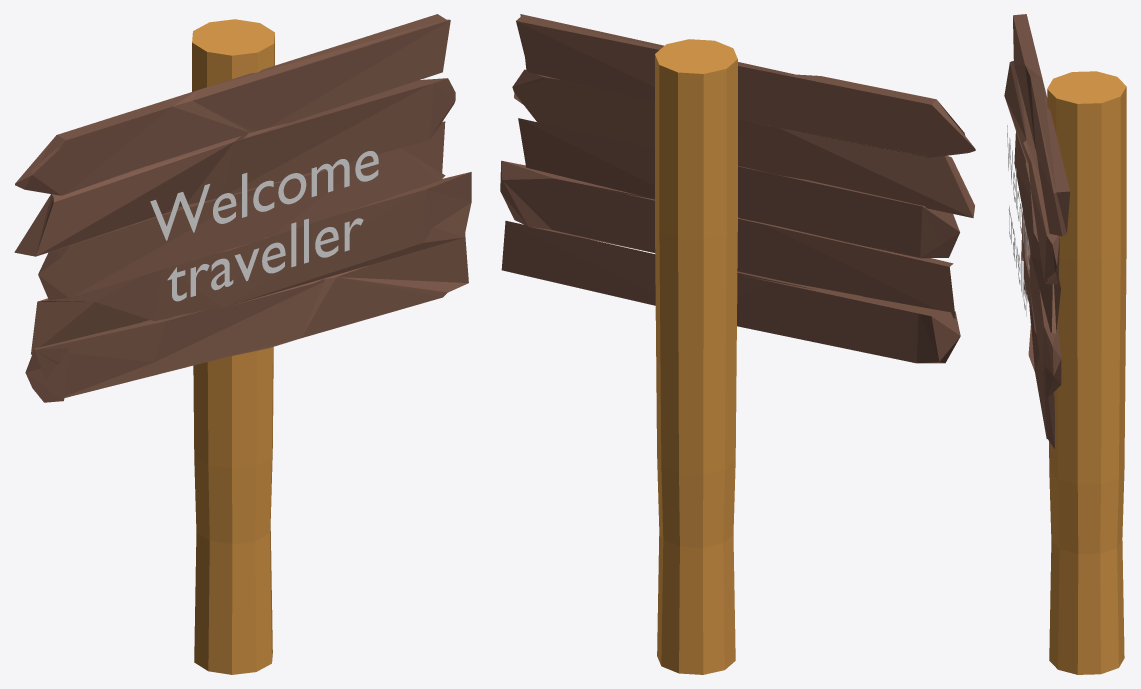
File: panneau.gltf
3 renders of one model, left to right at view 1: azimuth 30°, elevation 25°; view 2: azimuth 150°, elevation 25°; view 3: azimuth 270°, elevation 25°, orthographic. The views are drawn at different scales.
Visible parts, largest first — view 1: model, welcome travelleur; view 2: model; view 3: model, welcome travelleur.
Boxes of the visible parts, box(x1,y1,x2,y2) form: model: box(14, 14, 471, 674); welcome travelleur: box(150, 151, 378, 301); model: box(500, 14, 975, 674); model: box(1004, 14, 1126, 674); welcome travelleur: box(1007, 125, 1029, 316).
Size of the model in its own units: 1.08 by 1.35 by 0.2624.
